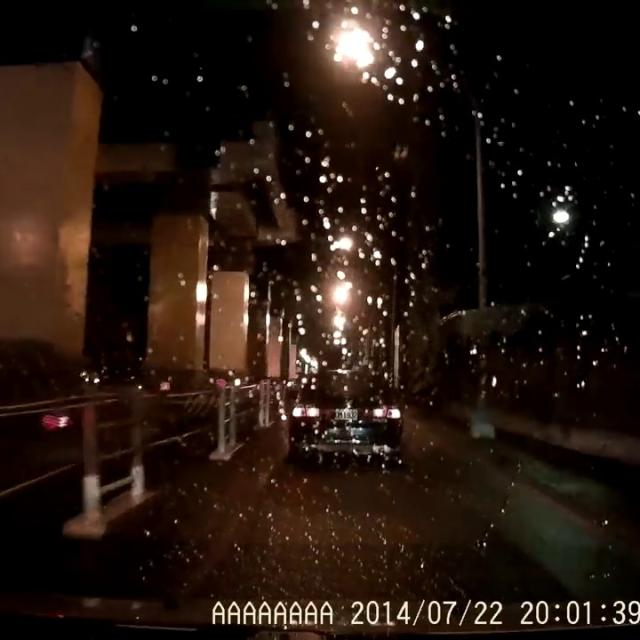Car: (287, 367, 404, 460)
